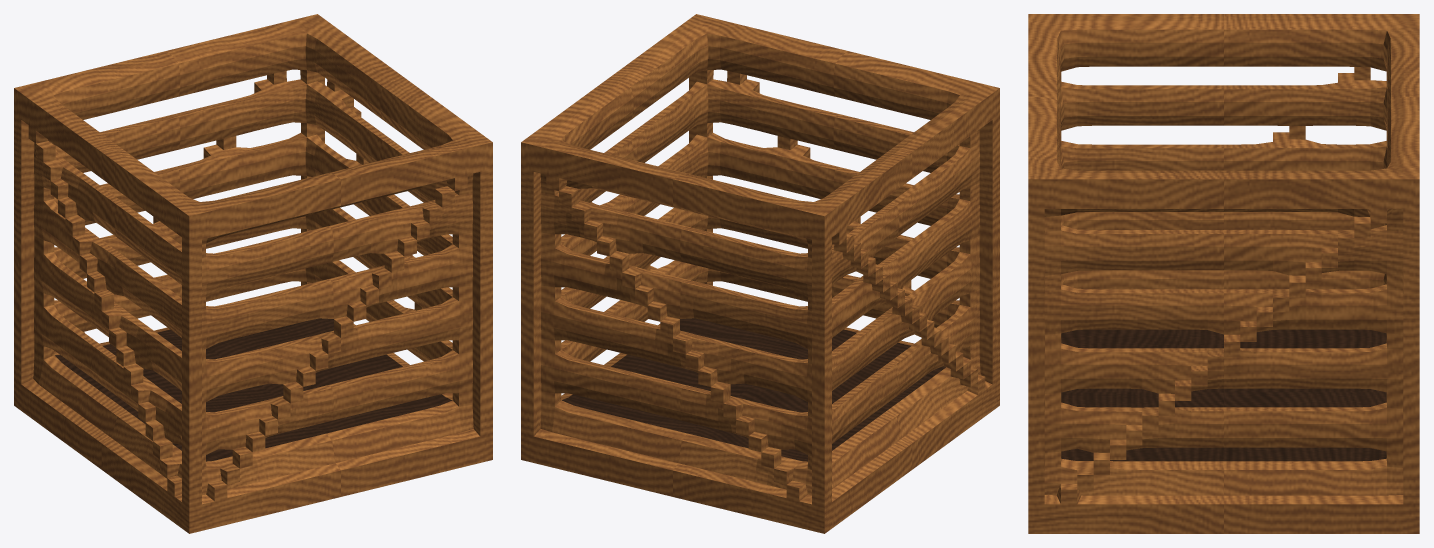
File: prop_crate_open.glb
3 views of the same model, side by side, from view 1: azimuth 30°, elevation 25°; view 2: azimuth 150°, elevation 25°; view 3: azimuth 270°, elevation 25° (orthographic). The views are drawn at different scales.
Visible parts, largest first — view 1: town_prop_crate_open; view 2: town_prop_crate_open; view 3: town_prop_crate_open.
Part boxes in pixels (x1,y1,x2,y2): town_prop_crate_open: (14,14,492,533); town_prop_crate_open: (521,14,999,533); town_prop_crate_open: (1028,14,1419,533).
Bounding box in the file's own units: 0.75 × 0.75 × 0.75.
1 material, 1 textured.
